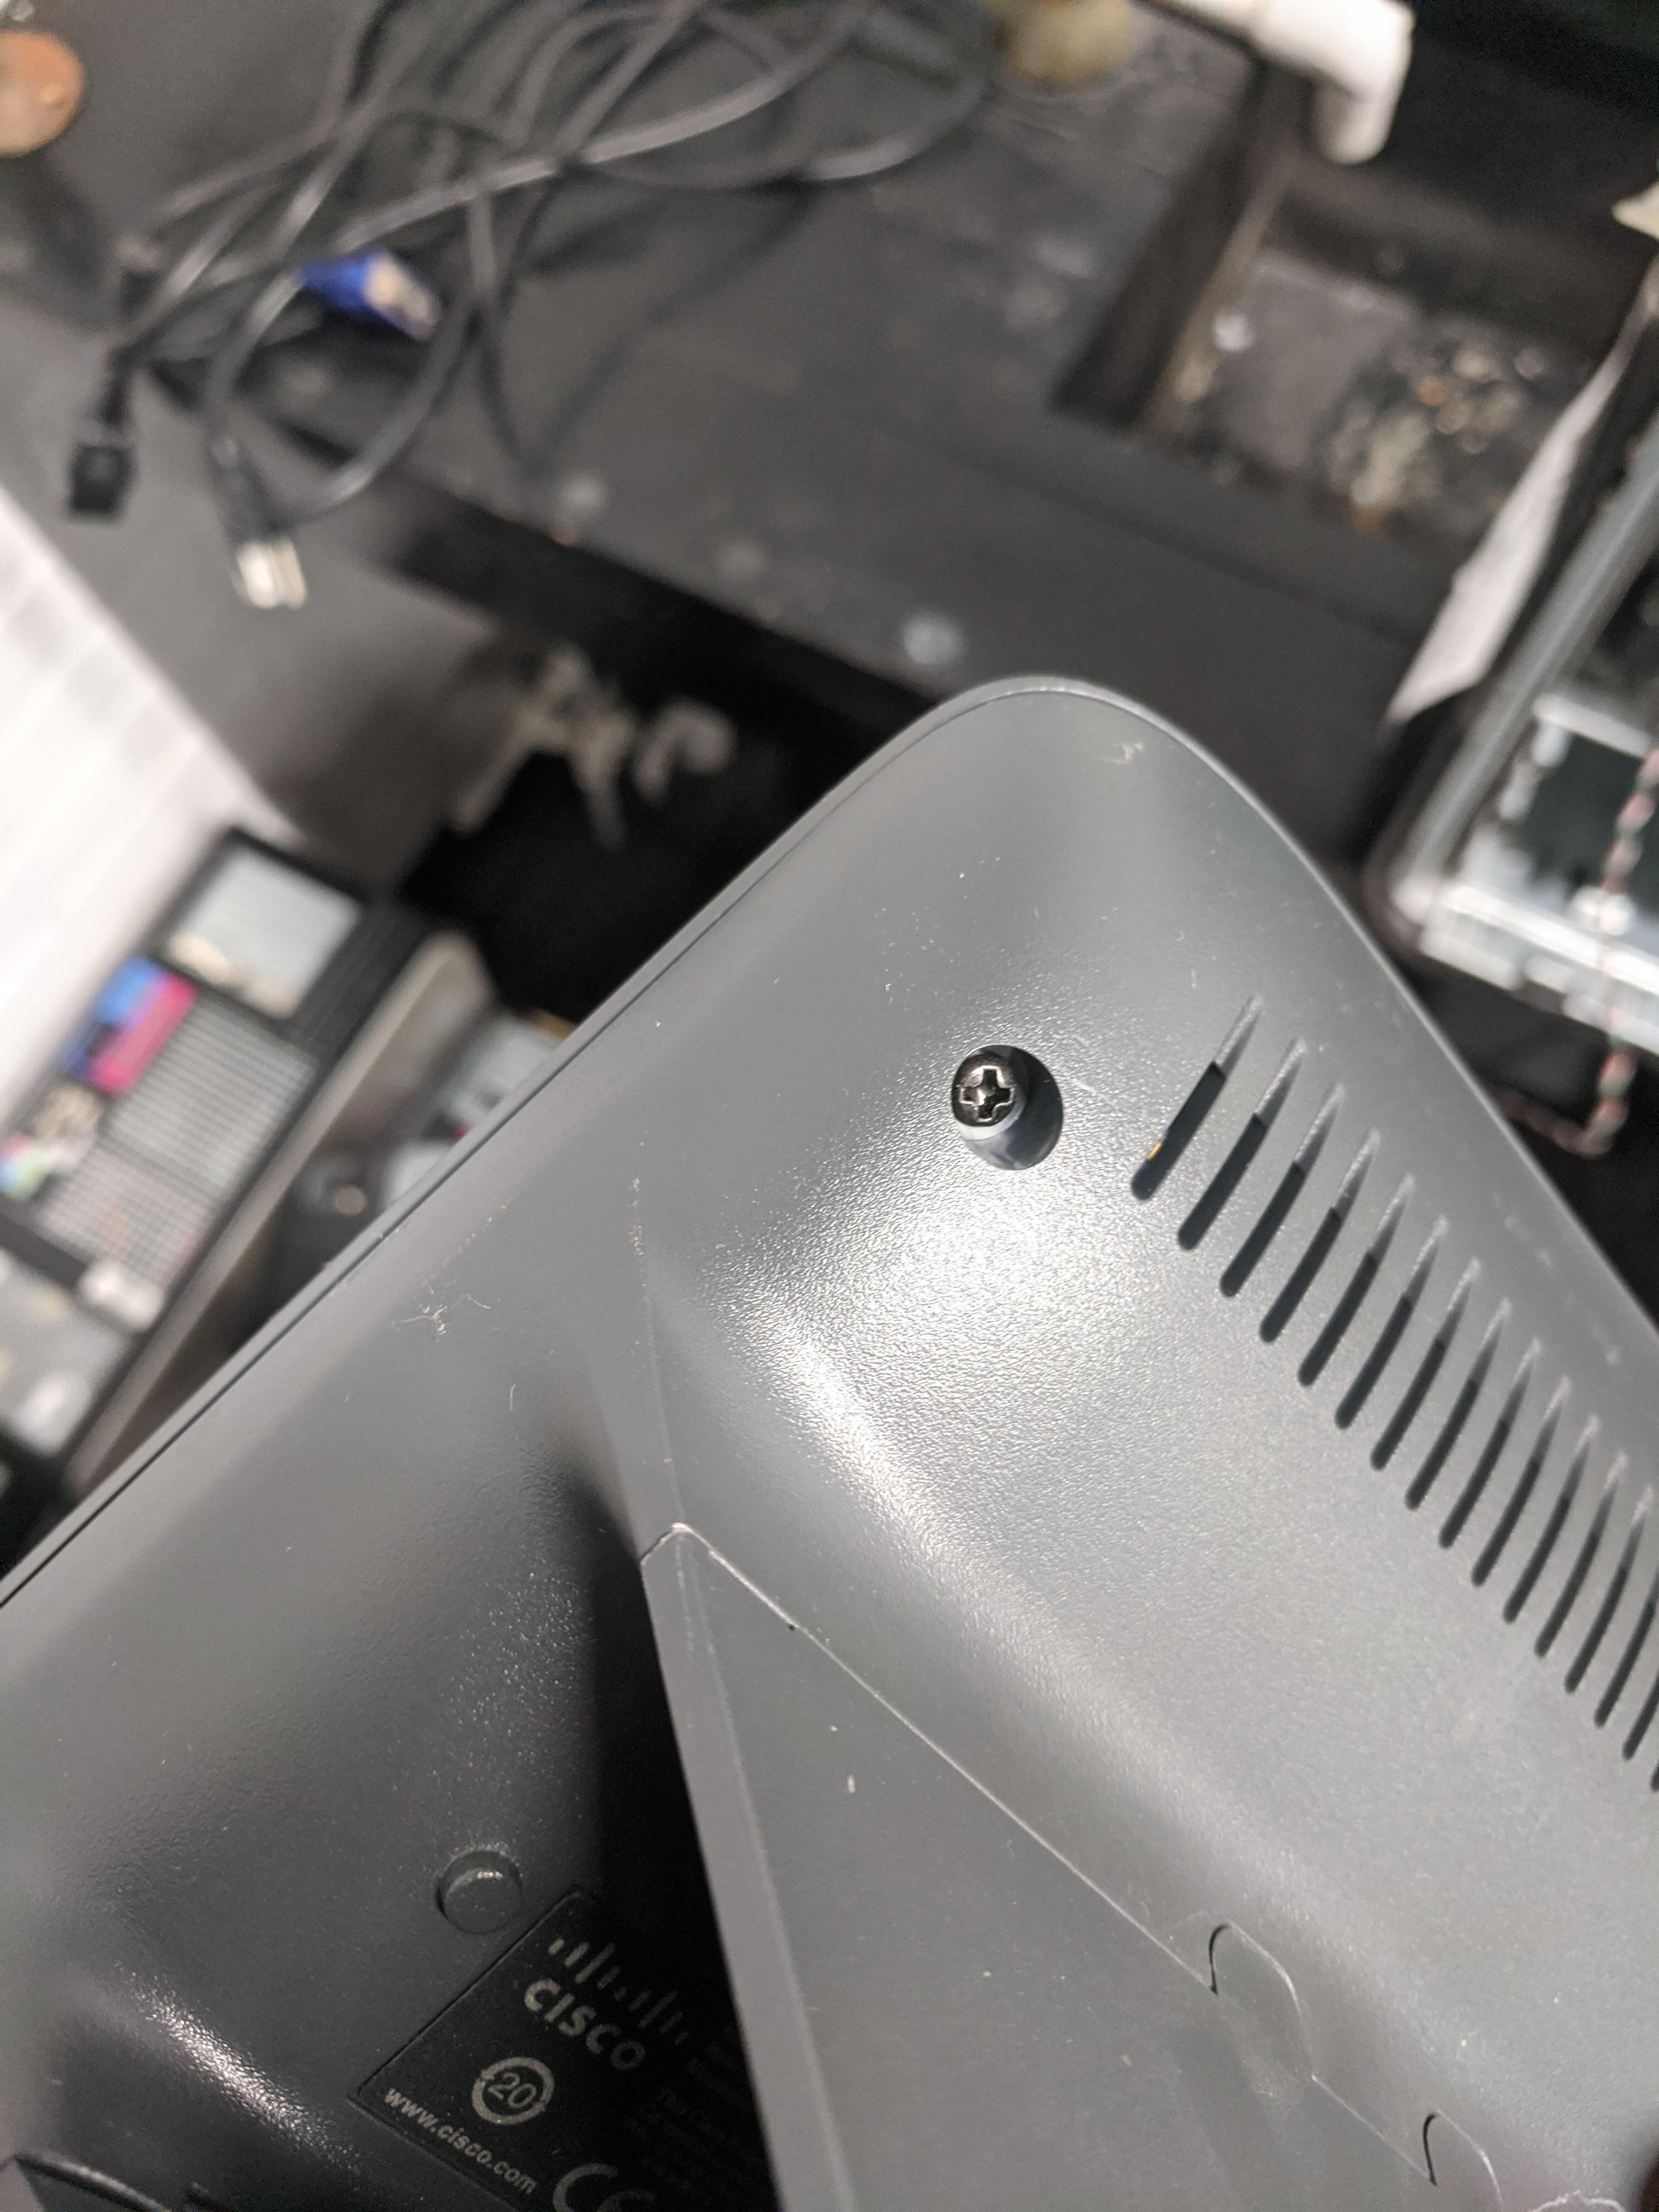cross_recessed_screw: (945, 1038, 1040, 1141)
